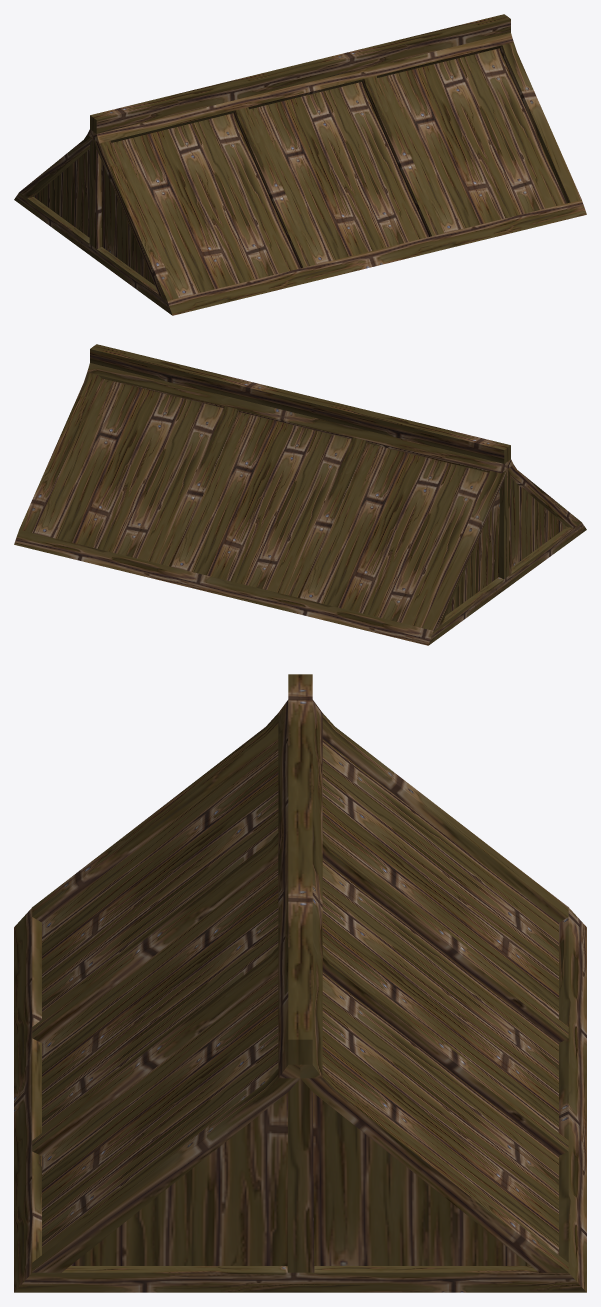
Rendered from roof.fbx.
The picture shows the model from 3 angles, top to bottom: view 1: azimuth 30°, elevation 25°; view 2: azimuth 150°, elevation 25°; view 3: azimuth 270°, elevation 25°; orthographic projection. The views are drawn at different scales.
Visible parts, largest first — view 1: roof; view 2: roof; view 3: roof.
Boxes of the visible parts, bbox=[...] form: roof: bbox=[14, 14, 586, 315]; roof: bbox=[14, 344, 586, 645]; roof: bbox=[14, 674, 586, 1292].
Size of the model in its own units: 805 by 260 by 534.
